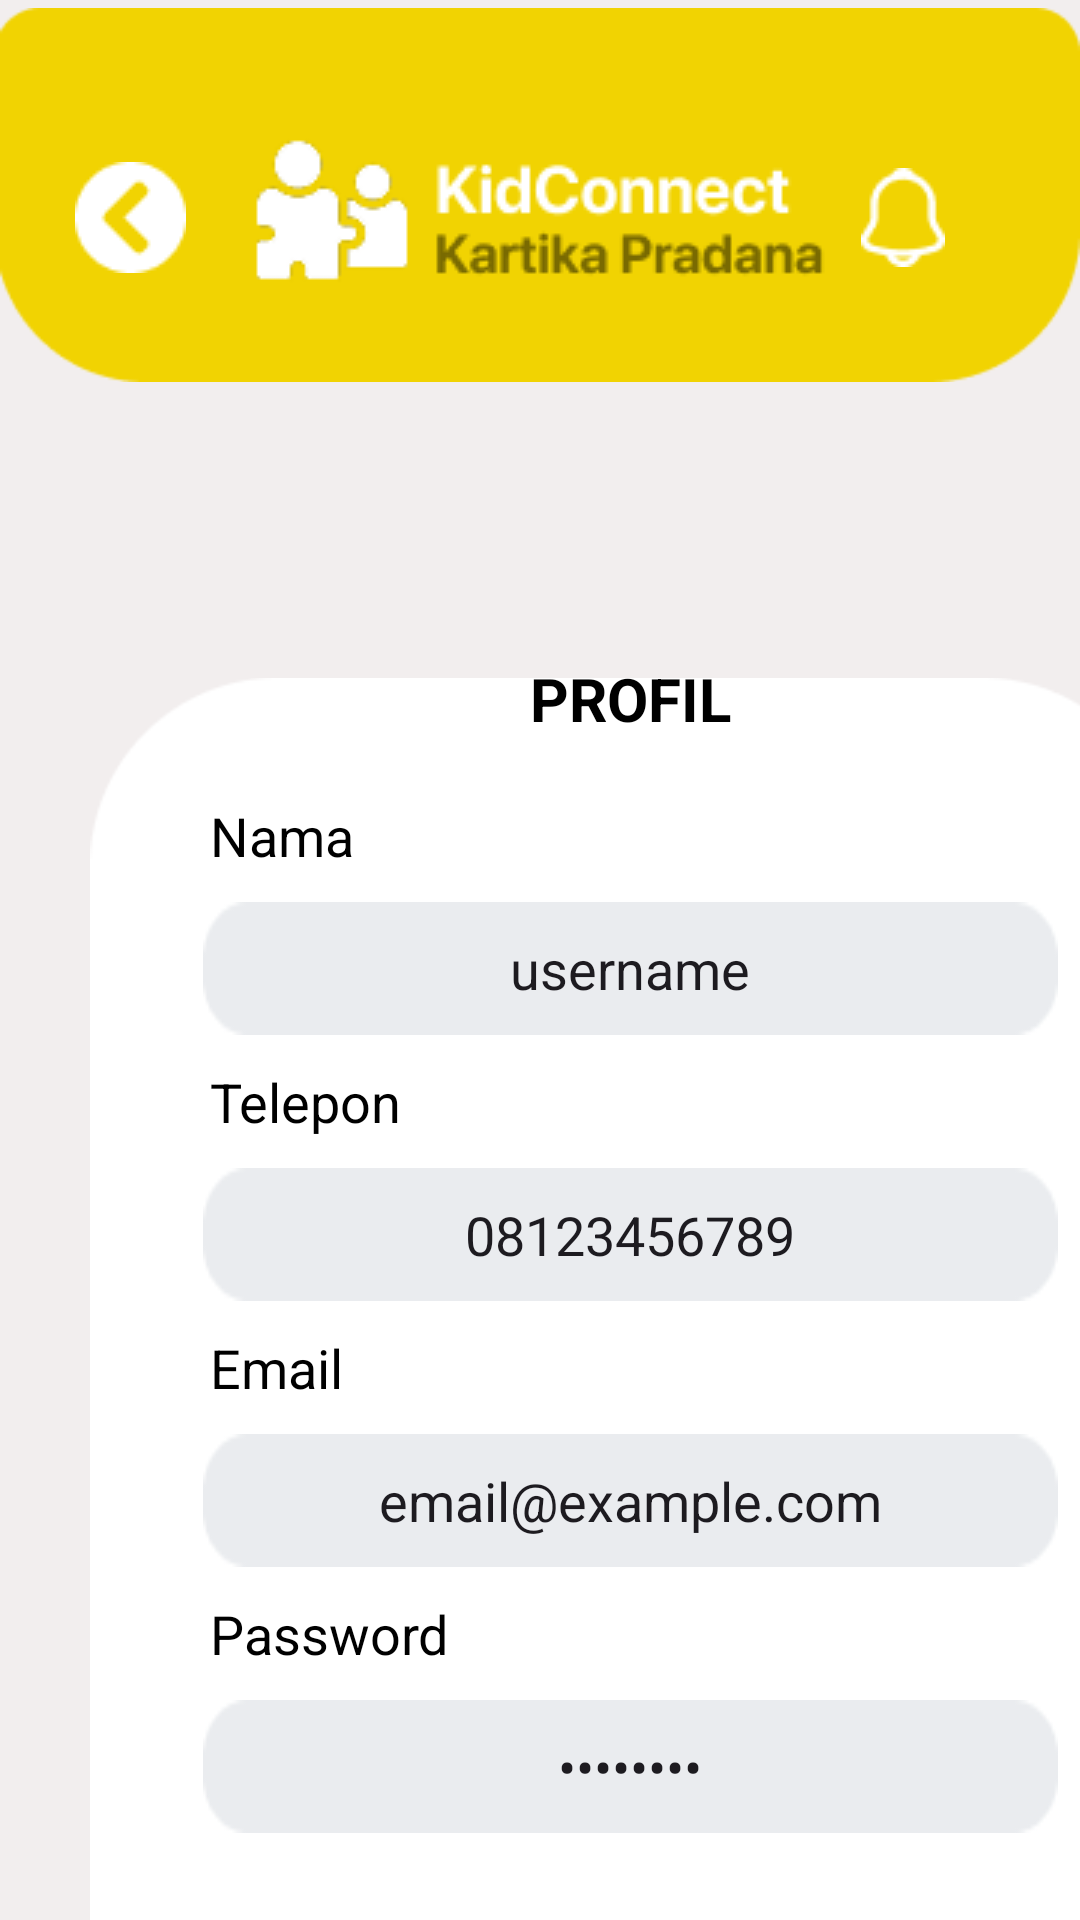

Where to tap for icons on this 1080*1920 app screen, as point (x, y):
back: point (130, 217)
notif: point (903, 217)
